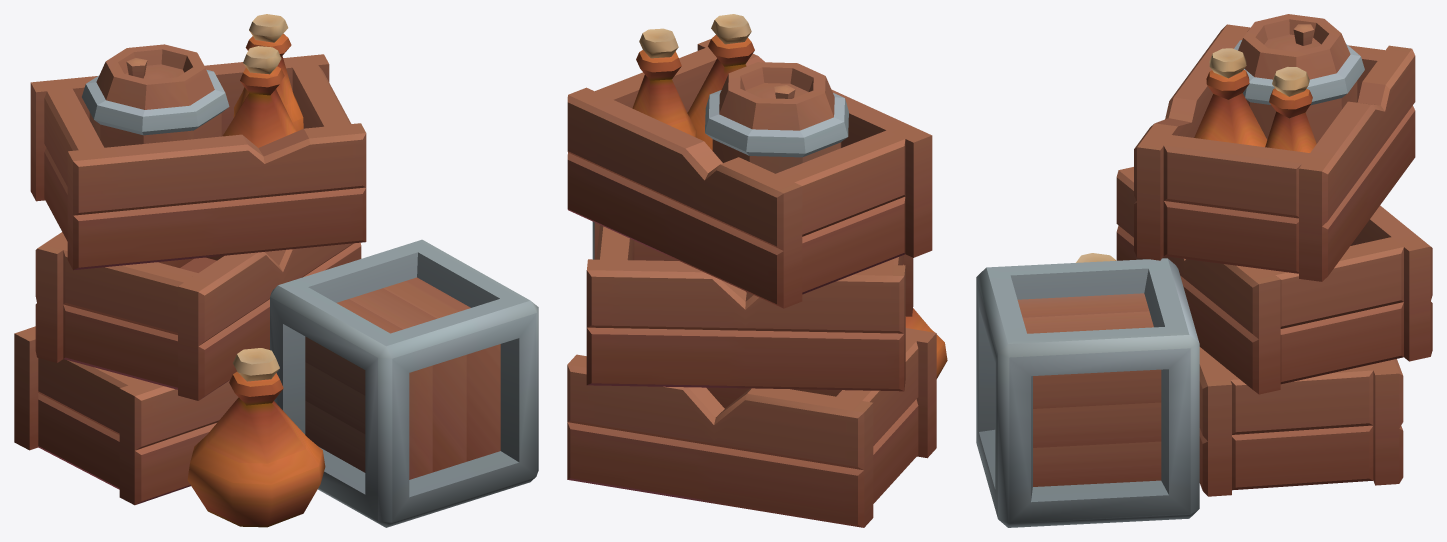
File: kay-caixas.gltf
The picture shows the model from 3 angles, left to right: view 1: azimuth 30°, elevation 25°; view 2: azimuth 150°, elevation 25°; view 3: azimuth 270°, elevation 25°; orthographic projection. The views are drawn at different scales.
Visible parts, largest first — view 1: crates_stacked; view 2: crates_stacked; view 3: crates_stacked.
Boxes of the visible parts, x1,y1,x2,y2 form: crates_stacked: [14, 14, 538, 527]; crates_stacked: [567, 14, 947, 527]; crates_stacked: [976, 14, 1432, 527].
Bounding box in the file's own units: 1.36 × 1.39 × 1.46.
Materials: 1 (1 with a texture image).
